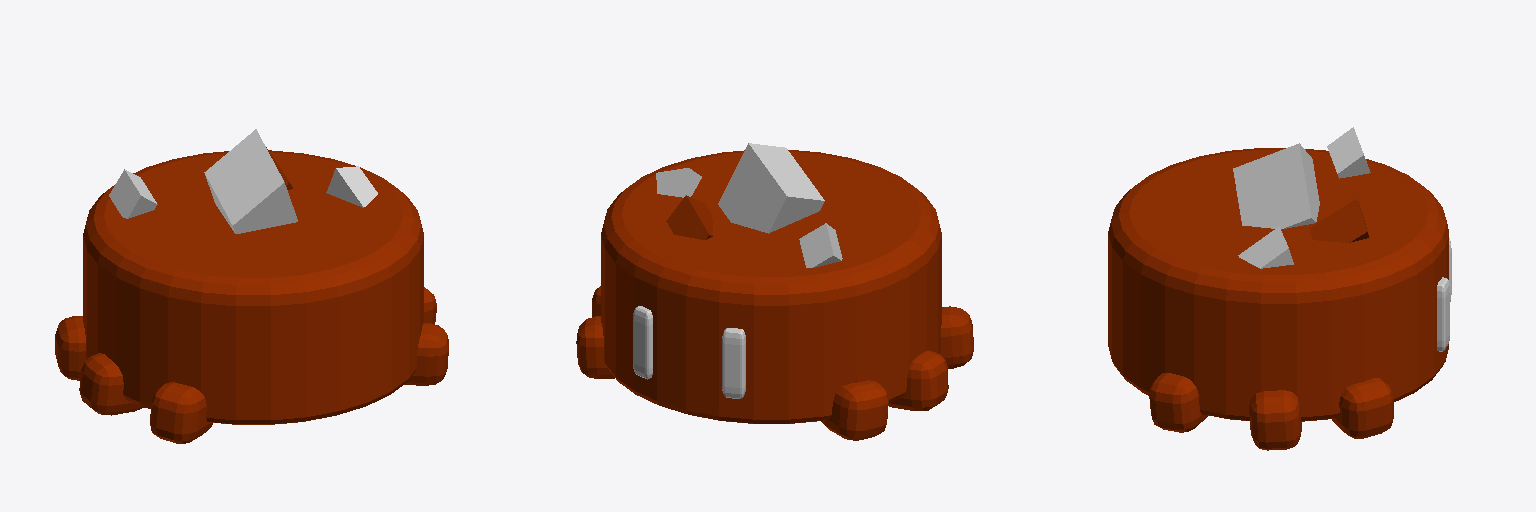
File: Caramel_Spider.obj
The picture shows the model from 3 angles: view 1: azimuth 30°, elevation 25°; view 2: azimuth 150°, elevation 25°; view 3: azimuth 270°, elevation 25°; orthographic projection.
Visible parts, largest first — view 1: Spooder, SugarCube1, LegR3.001, LegR2.001, LegR3, LegR1.001, SugarCube2, SugarCube3; view 2: Spooder, SugarCube1, LegR1.001, LegR2.001, LegR3.001, EyeR.001, LegR1, SugarCube3.001, EyeR, SugarCube2, SugarCube3; view 3: Spooder, SugarCube1, LegR2, LegR1, LegR3, SugarCube3.001, SugarCube2, SugarCube3, EyeR.
Part boxes in pixels (x1,y1,x2,y2): Spooder: (83,150,423,424); SugarCube1: (204,129,297,233); LegR3.001: (150,382,212,443); LegR2.001: (79,353,143,415); LegR3: (404,323,448,385); LegR1.001: (55,316,85,380); SugarCube2: (109,169,157,218); SugarCube3: (326,166,377,207); Spooder: (601,150,941,423); SugarCube1: (718,143,824,233); LegR1.001: (821,380,888,440); LegR2.001: (888,350,948,410); LegR3.001: (940,306,973,368); EyeR.001: (722,328,745,398); LegR1: (576,316,614,378); SugarCube3.001: (666,195,712,239); EyeR: (633,306,652,379); SugarCube2: (799,223,842,267); SugarCube3: (656,168,701,197); Spooder: (1108,148,1448,421); SugarCube1: (1233,143,1319,229); LegR2: (1249,390,1301,450); LegR1: (1332,378,1393,438); LegR3: (1149,373,1207,432); SugarCube3.001: (1309,199,1368,242); SugarCube2: (1327,127,1370,178); SugarCube3: (1238,226,1293,268); EyeR: (1437,277,1449,351).
Bounding box in the file's own units: 1.34 × 0.8734 × 1.16.